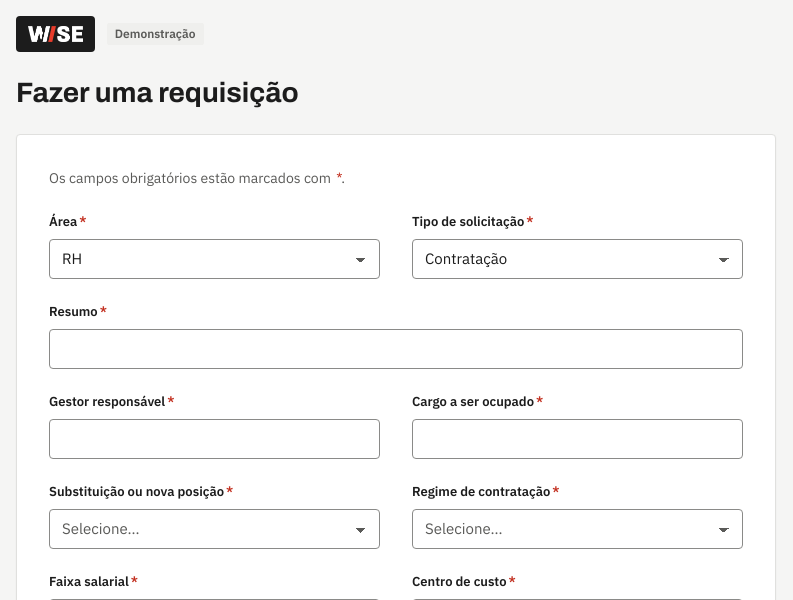
Requisição › ao trocar de tipo, só o Resumo é preservado
Type "Vaga de dados" into the field labelled "Resumo*". click: (396, 349)
box: 49,329 -> 743,369
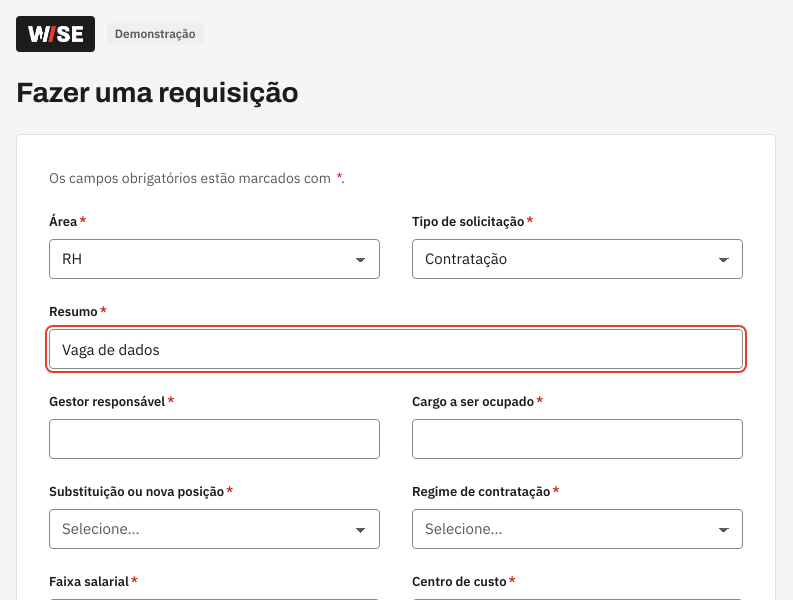
Type "Analista" into the field labelled "Cargo a ser ocupado*". click: (578, 439)
box: 412,419 -> 743,459
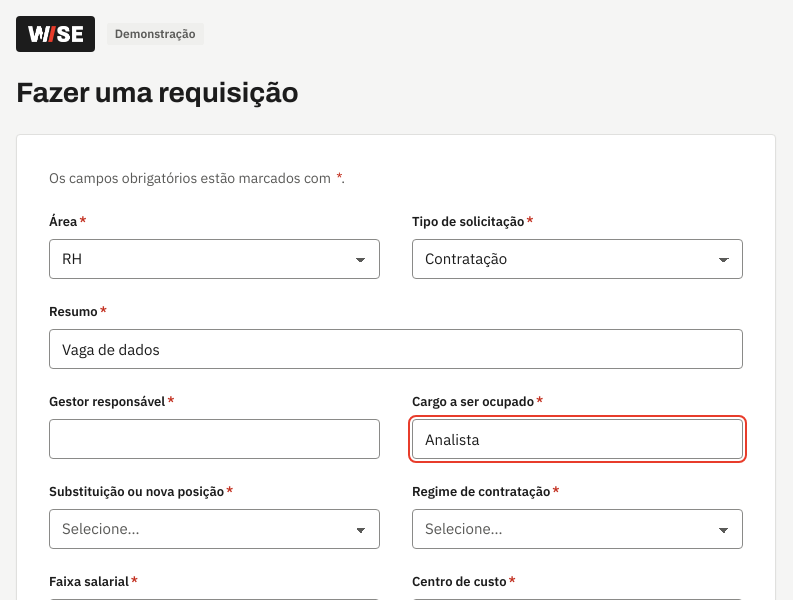
Click the dropdown labelled "Contratação". click: (466, 258)
box: 412,239 -> 743,279
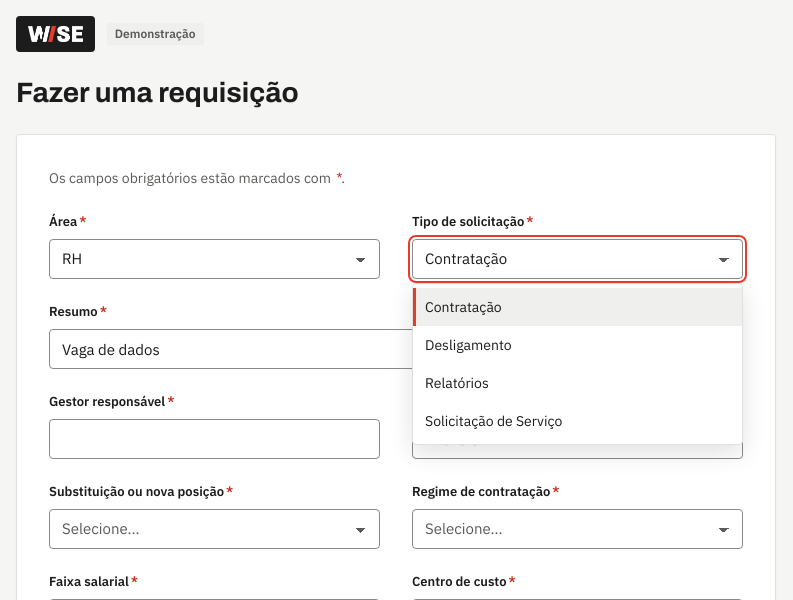
Click the option "Desligamento". click: (468, 345)
box: 425,336 -> 512,354
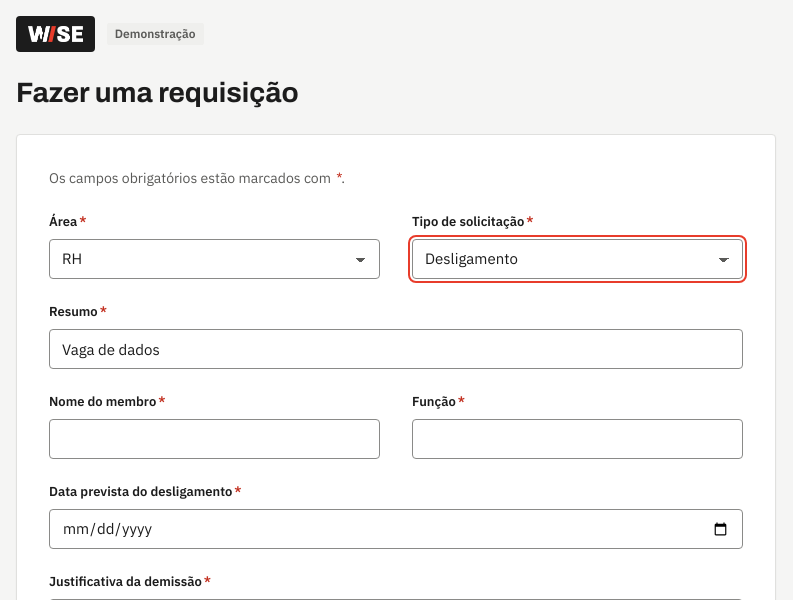
Expected: the field labelled "Nome do membro*" is shown, 49,419 -> 380,459
Expected: the label labelled "Cargo a ser ocupado" is gone
Click the dropdown labelled "Desligamento". click: (471, 258)
box: 412,239 -> 743,279
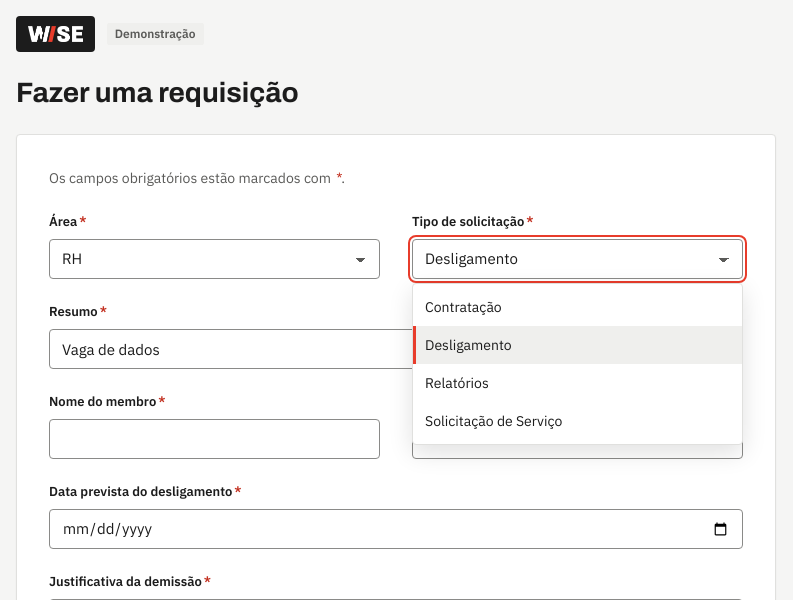
Click the option "Contratação". click: (463, 307)
box: 425,298 -> 502,316
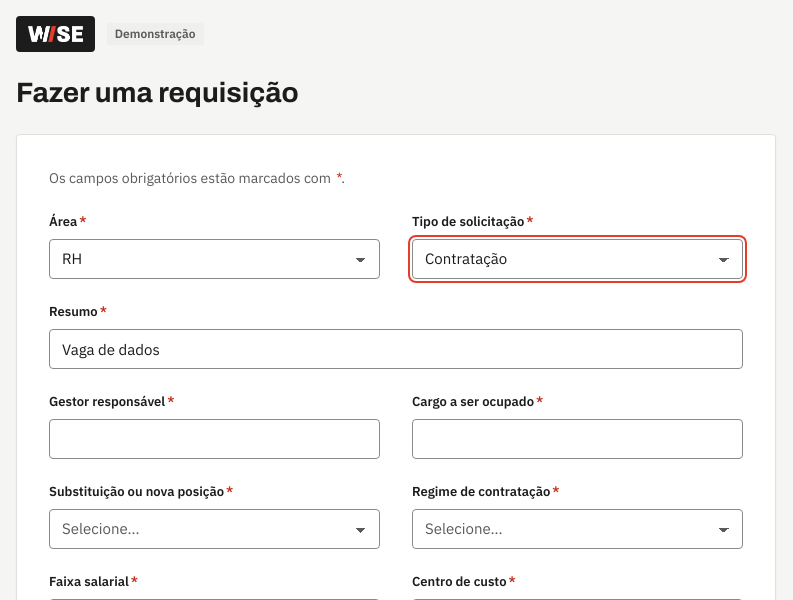
Expected: the field labelled "Cargo a ser ocupado*" is empty, 412,419 -> 743,459
